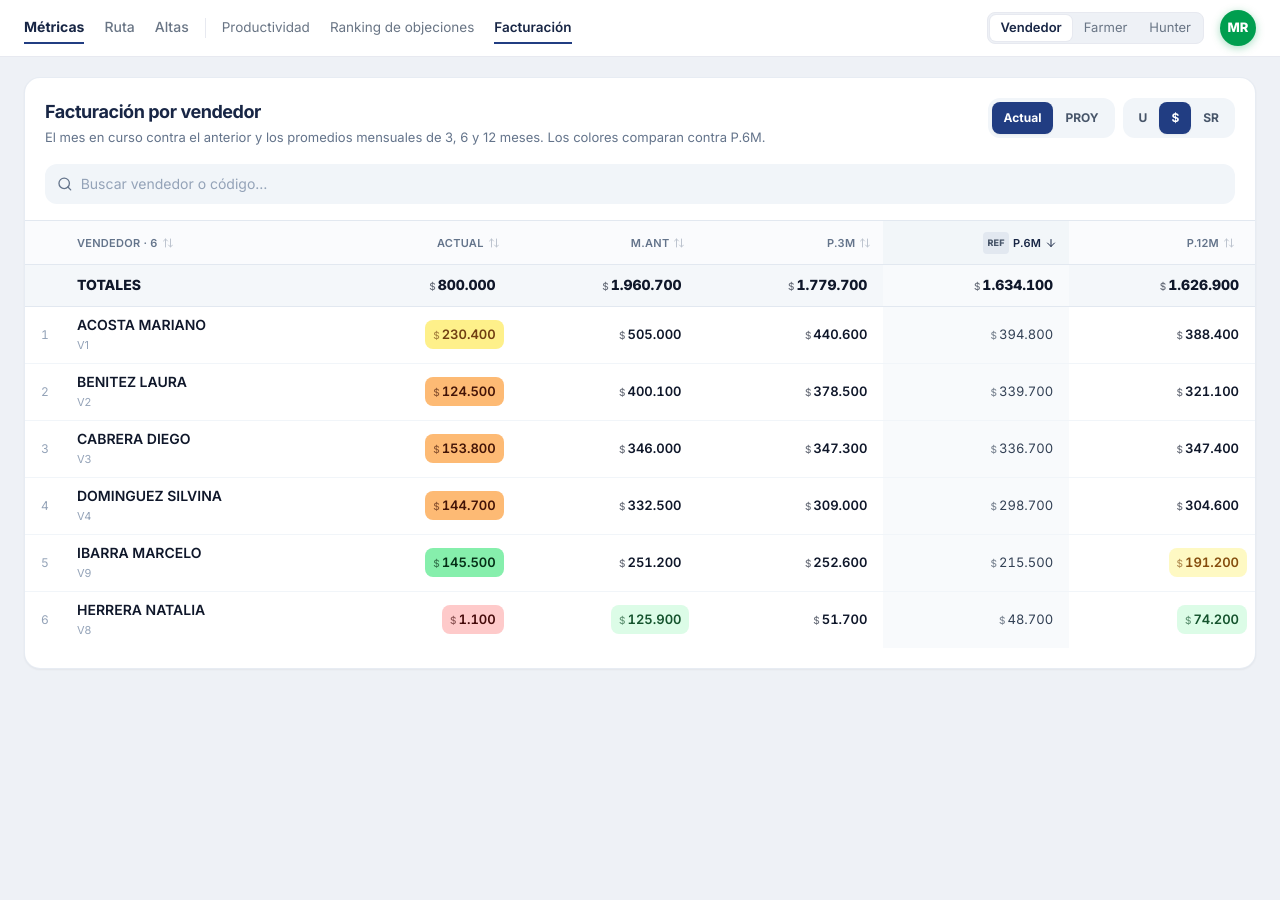
it: Facturación › PROY cambia el encabezado del mes
Expected: the row with test id "fila-facturacion-V1" is shown, [25,306,1255,363]
Click the button "PROY" at point(1082, 118), box [1053,102,1111,134]
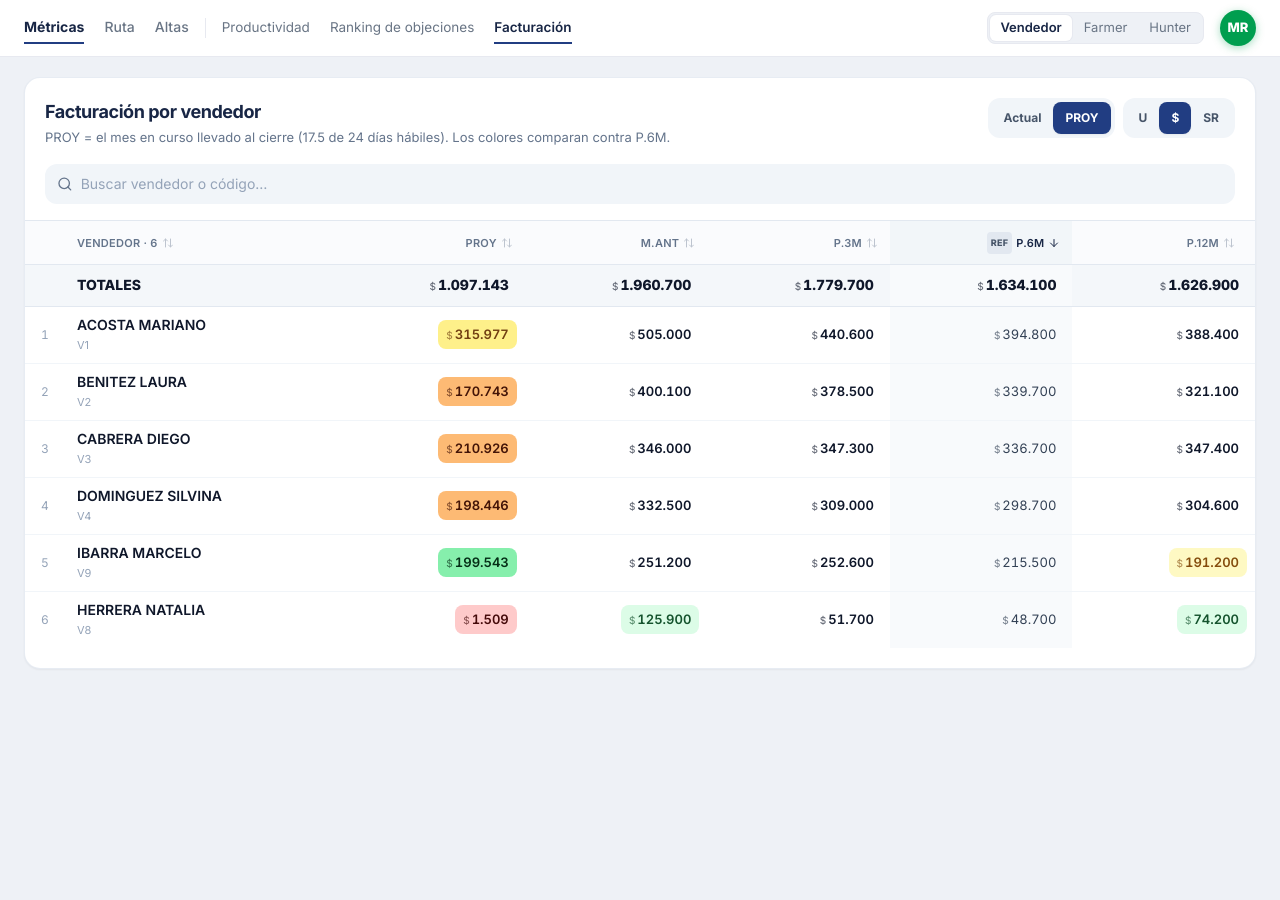
Now the text "días hábiles)" is shown, box [45,129,670,145]
